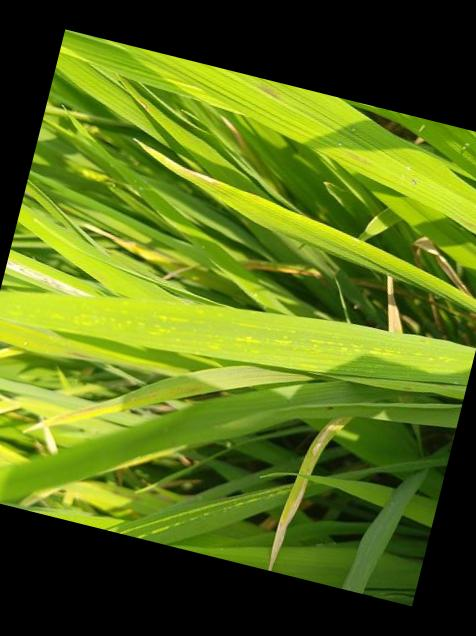Leaf Blight: (266, 416, 351, 572), (135, 141, 227, 185), (387, 276, 401, 333)
Leaf Streak: (0, 291, 476, 383)
